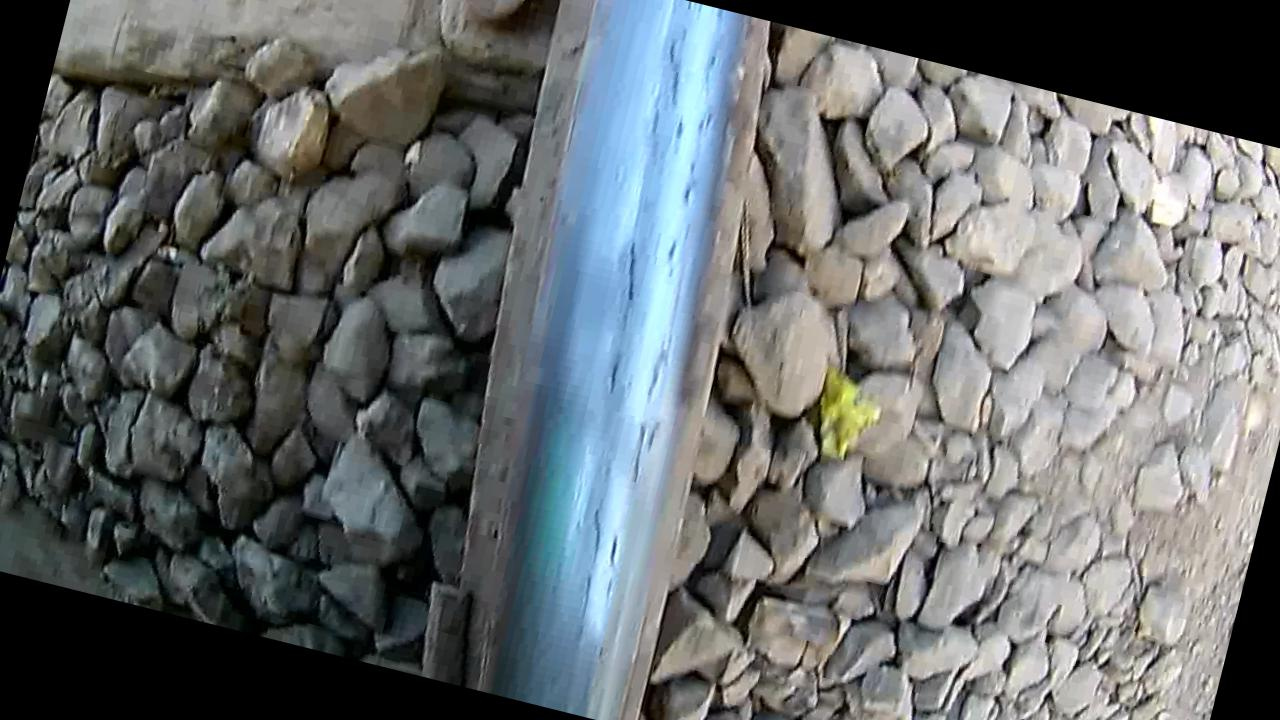normal_track: (524, 34, 757, 599)
